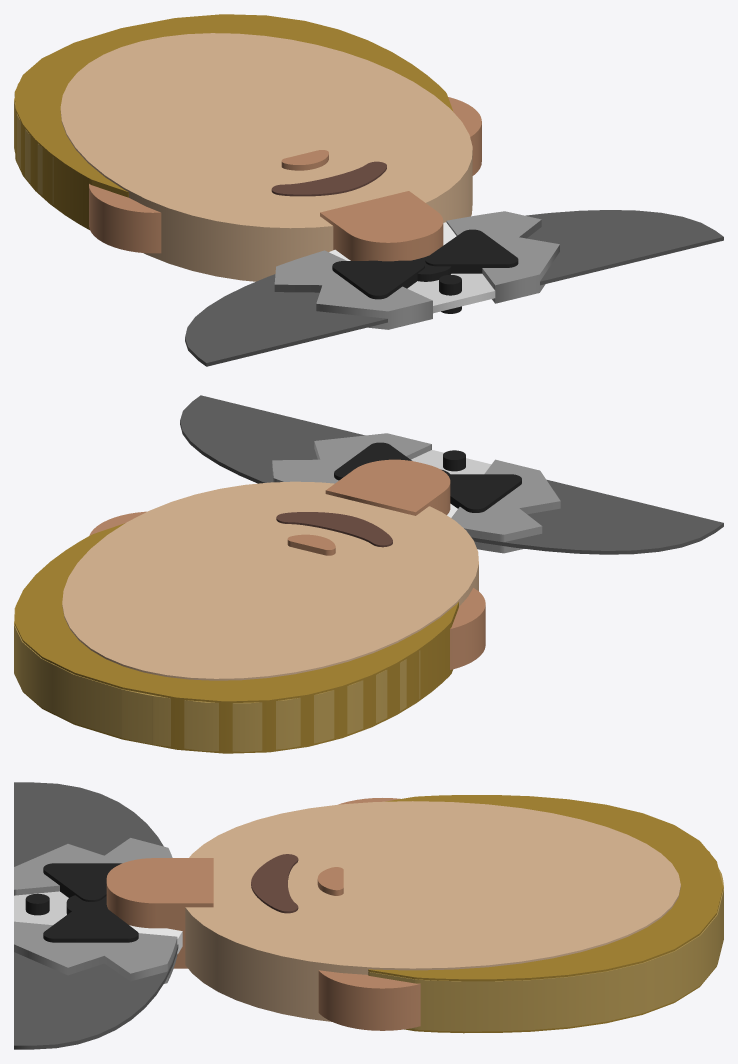
The model's file is emoji_u1f935_1f3fc_200d_2642.glb.
The picture shows the model from 3 angles, top to bottom: view 1: azimuth 30°, elevation 25°; view 2: azimuth 150°, elevation 25°; view 3: azimuth 270°, elevation 25°; orthographic projection. The views are drawn at different scales.
Parts seen in each view (by area): view 1: emoji_u1f935_1f3fc_200d_2642; view 2: emoji_u1f935_1f3fc_200d_2642; view 3: emoji_u1f935_1f3fc_200d_2642.
Boxes of the visible parts, left/top/right/bottom form: emoji_u1f935_1f3fc_200d_2642: left=14, top=14, right=723, bottom=366; emoji_u1f935_1f3fc_200d_2642: left=14, top=395, right=723, bottom=753; emoji_u1f935_1f3fc_200d_2642: left=14, top=782, right=723, bottom=1049.
Bounding box in the file's own units: 0.0294 × 0.0036 × 0.0334.
